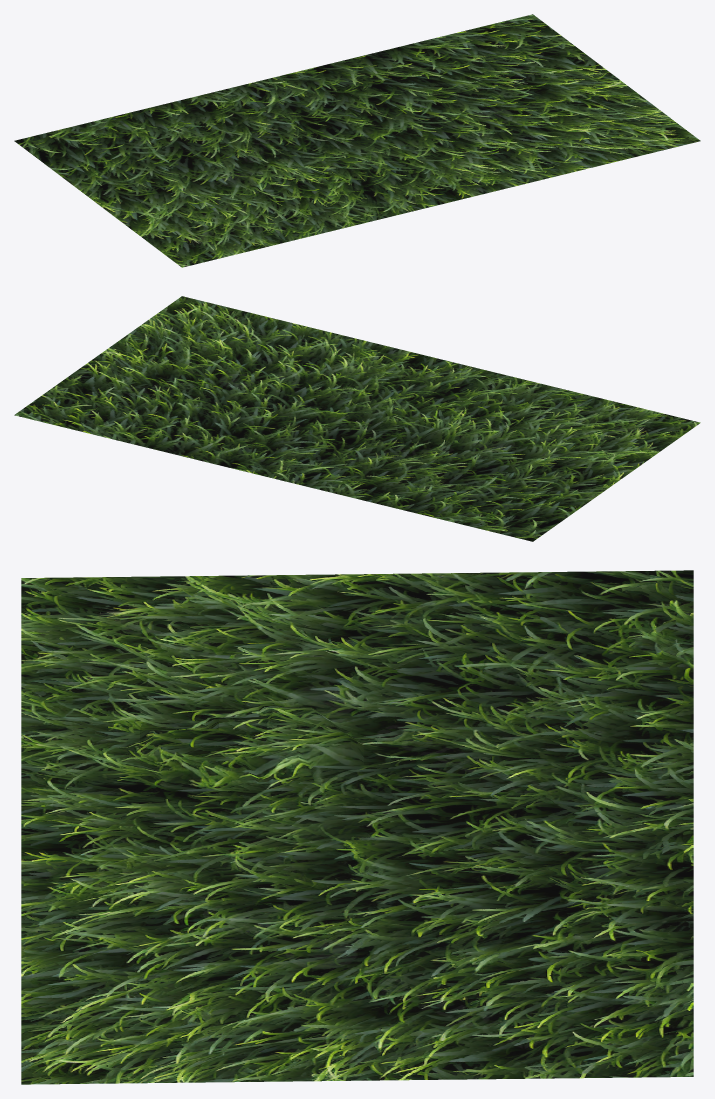
3 views of the same model, one above another, from view 1: azimuth 30°, elevation 25°; view 2: azimuth 150°, elevation 25°; view 3: azimuth 270°, elevation 25° (orthographic). The views are drawn at different scales.
Visible parts, largest first — view 1: pngtree-seamless-texture-of-short-cropped-grass-in-a-gray-g.; view 2: pngtree-seamless-texture-of-short-cropped-grass-in-a-gray-g.; view 3: pngtree-seamless-texture-of-short-cropped-grass-in-a-gray-g..
Boxes of the visible parts, x1,y1,x2,y2 form: pngtree-seamless-texture-of-short-cropped-grass-in-a-gray-g.: (14,14,700,267); pngtree-seamless-texture-of-short-cropped-grass-in-a-gray-g.: (14,296,700,541); pngtree-seamless-texture-of-short-cropped-grass-in-a-gray-g.: (21,570,693,1084).
Size of the model in its own units: 255 by 2.5 by 143.
Materials: 1 (1 with a texture image).
